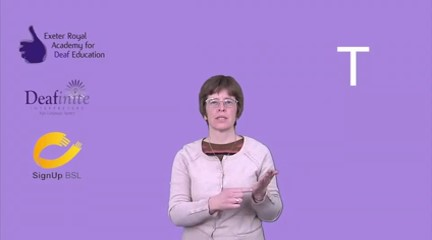T: (207, 162, 282, 217)
